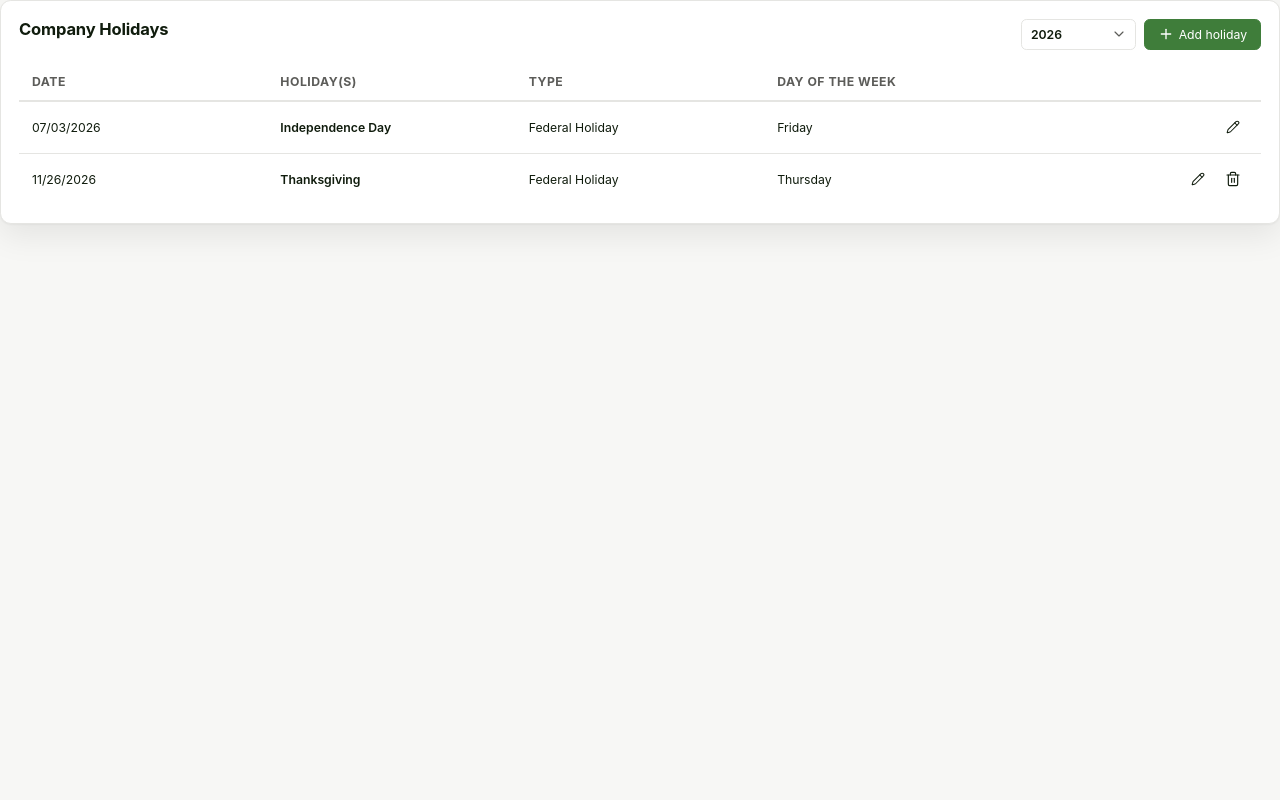
Test: CompanyHolidaysPanel › flags blank fields instead of saving
Expected: the table named "Company holidays 2026" is shown, [19, 64, 1261, 205]
Click the button "Add holiday".
click(1202, 34)  # box [1144, 19, 1261, 50]
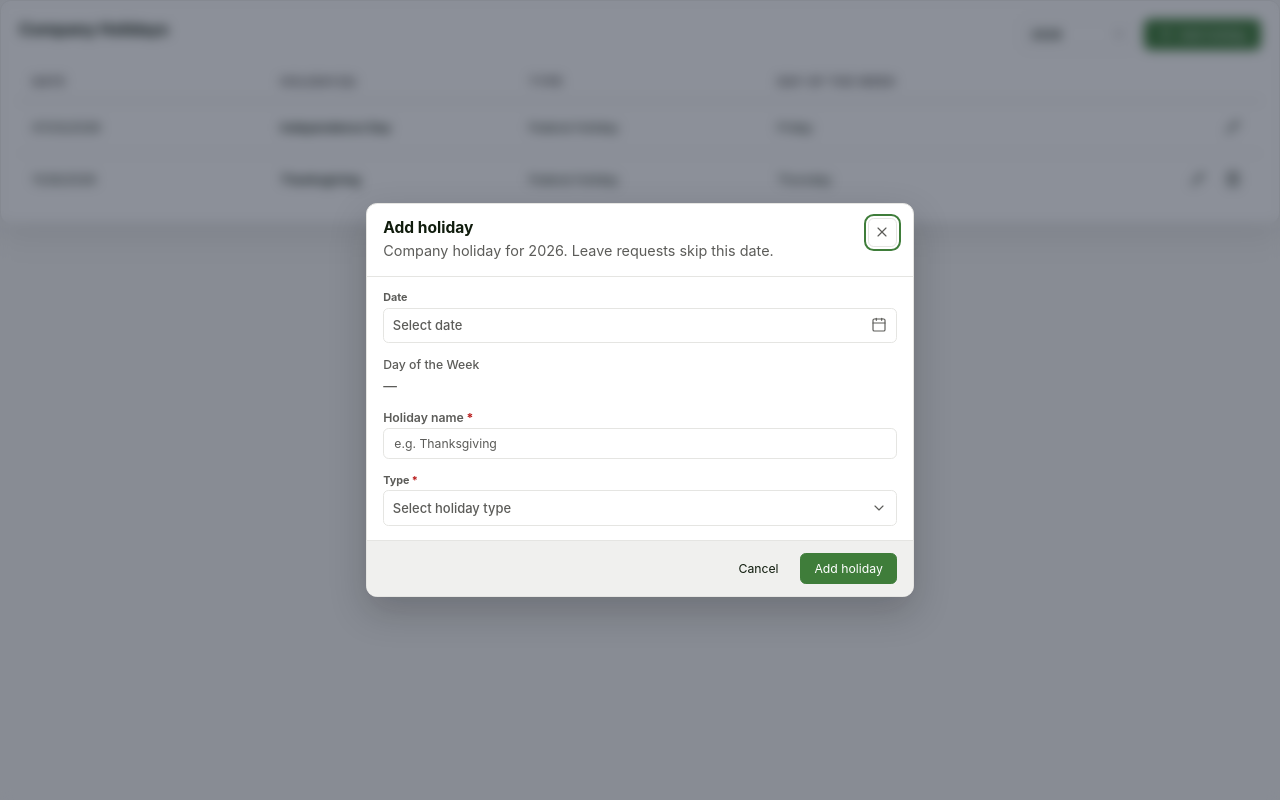
Click the button "Add holiday".
click(849, 569)  # box [800, 553, 897, 584]
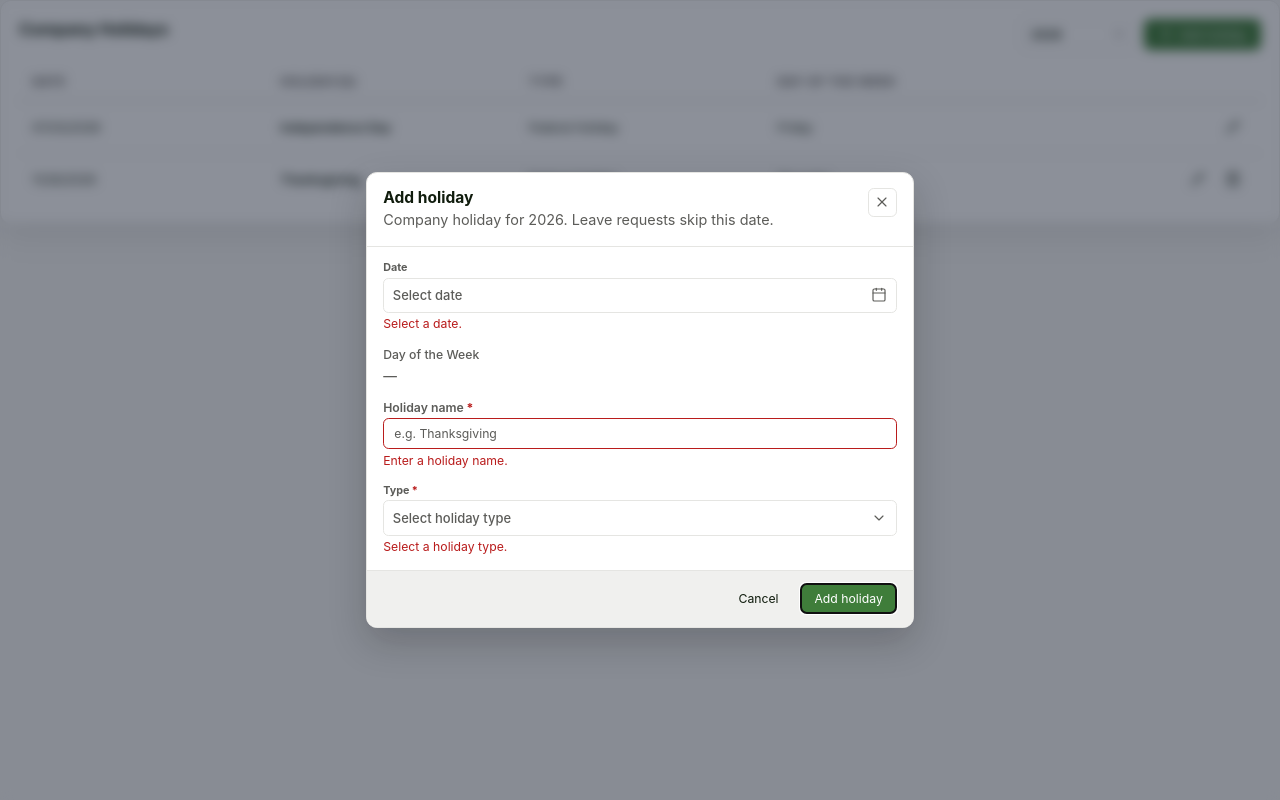
Now the text "Enter a holiday name." is shown, box [383, 453, 508, 468]
Now the text "Select a holiday type." is shown, box [383, 539, 507, 554]
Now the text "Select a date." is shown, box [383, 316, 462, 332]
